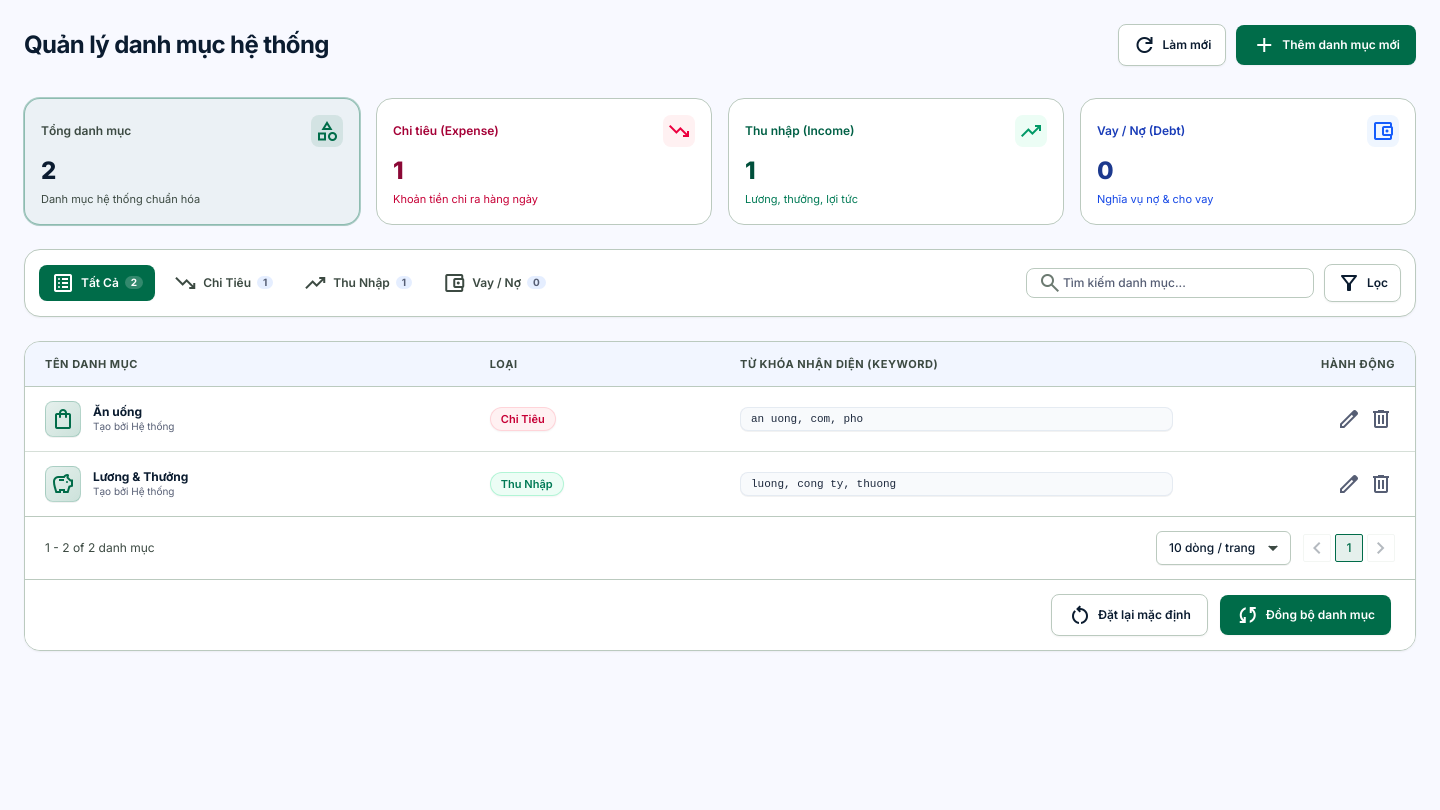
Test: CategoryPage Refinements & 2-Tier Testing Suite › ⚡ TẦNG 2: Real System Impact — Draft Mode, Reset & Security PIN Sync › 2.1. Thêm danh mục mới vào Bản Nháp: Chưa gọi API CSDL, chỉ xuất hiện trên giao diện nháp
The width and height of the screenshot is (1440, 810).
Check: the text "Ăn uống" is shown, box [93, 404, 142, 420]
// Mở modal thêm
Click the button "Thêm danh mục mới" at (1326,45), box [1236, 25, 1416, 65]
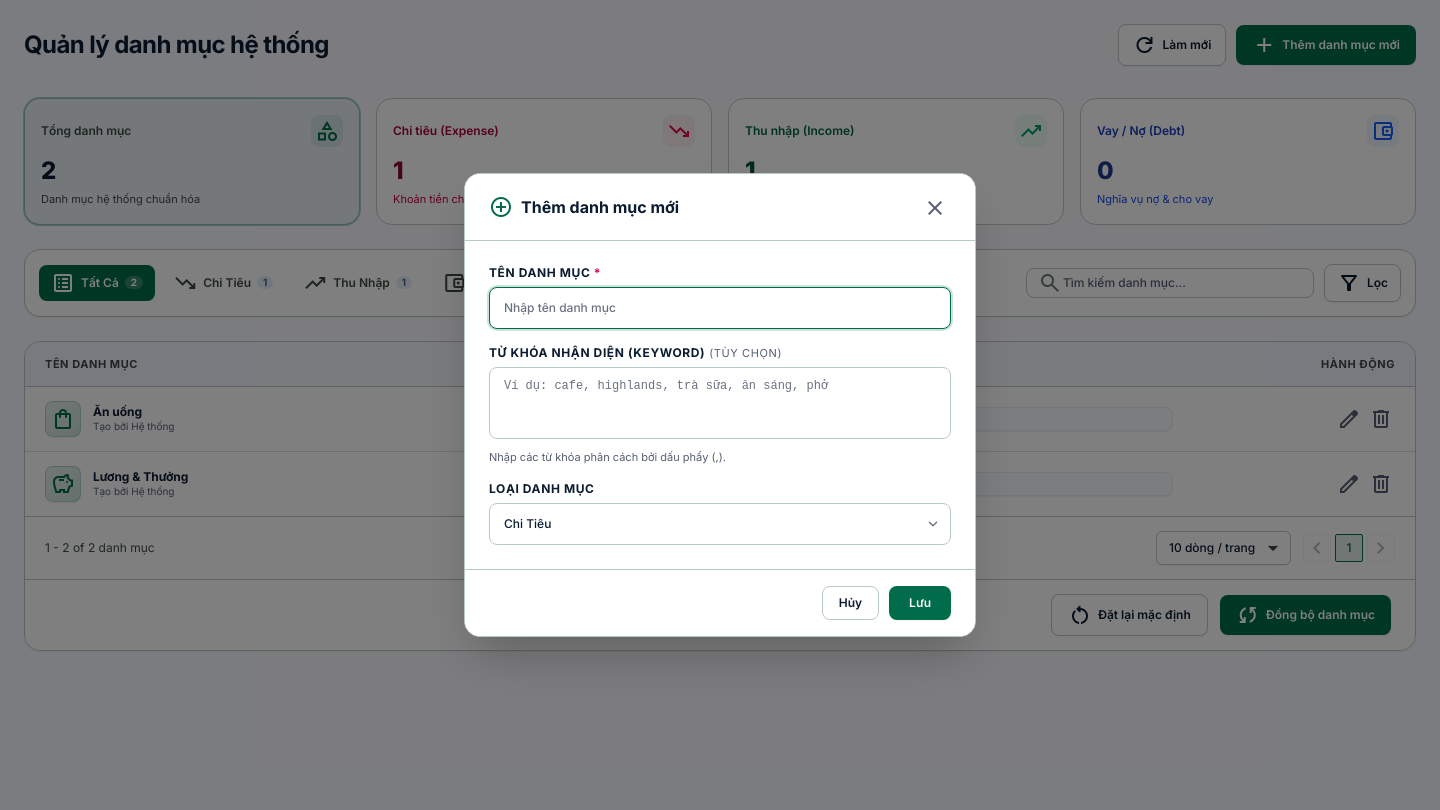
// Nhập tên danh mục mới
Type "Tiền tip phục vụ" into the field with placeholder "Nhập tên danh mục" at (720,308), box [489, 287, 951, 329]
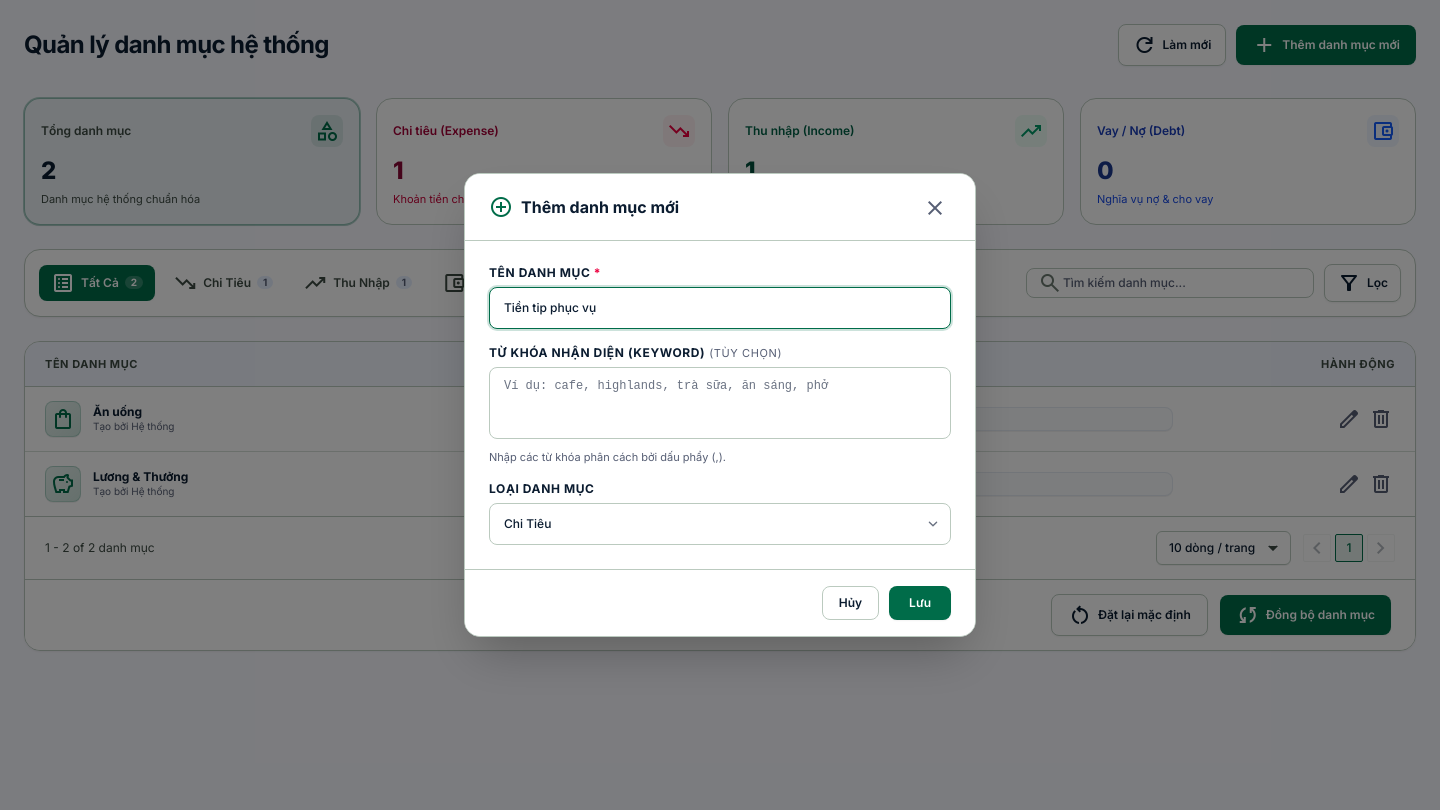
Type "tip, bo, thưởng phục vụ" into the text box with placeholder "Ví dụ: cafe, highlands, trà sữa, ăn sáng, phở" at (720,403), box [489, 367, 951, 439]
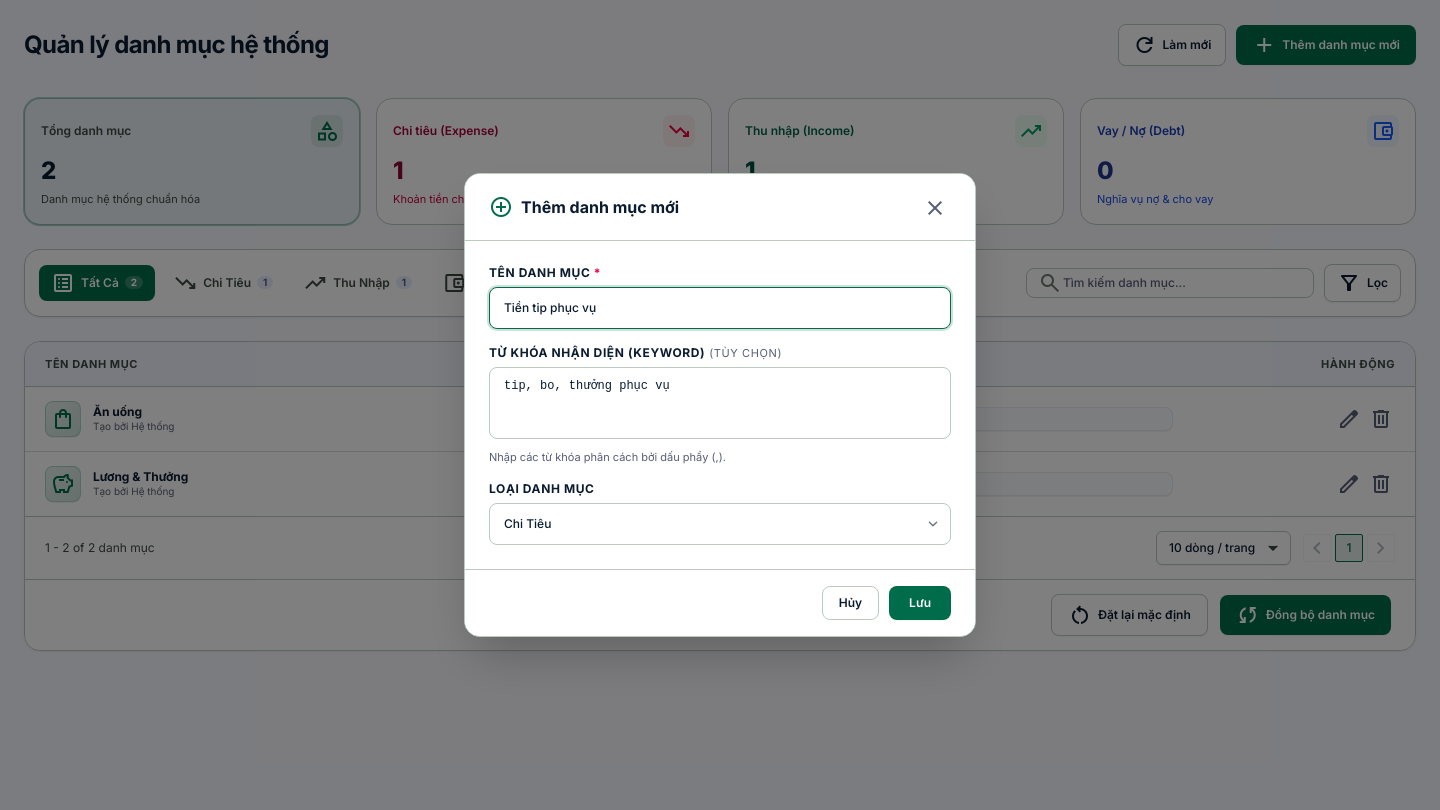
//  Bấm Lưu
Click the button "Lưu" at (920,603), box [889, 586, 951, 620]
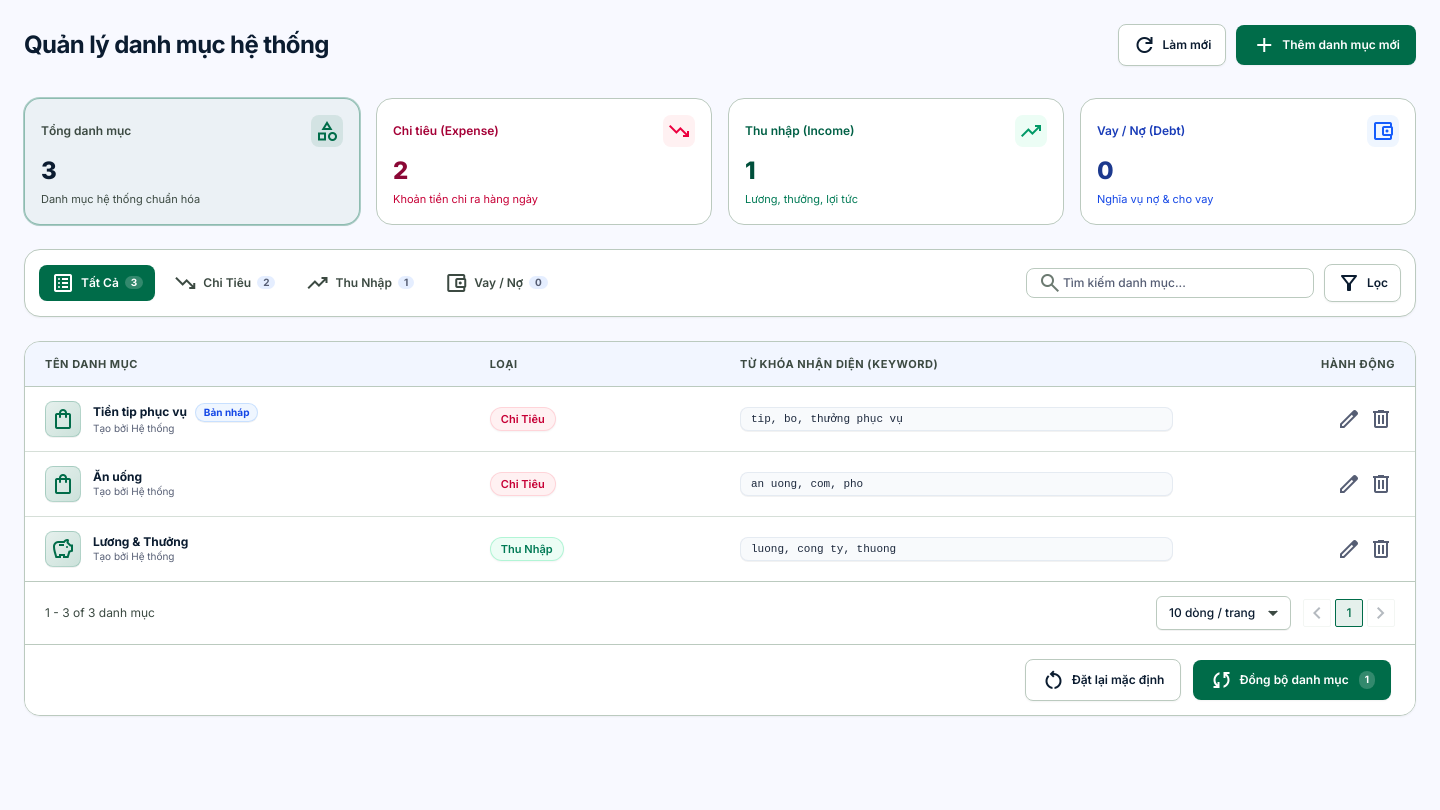
Check: the text "Tiền tip phục vụ" is shown, box [93, 404, 187, 420]
Check: the text "Bản nháp" is shown, box [195, 403, 258, 422]
